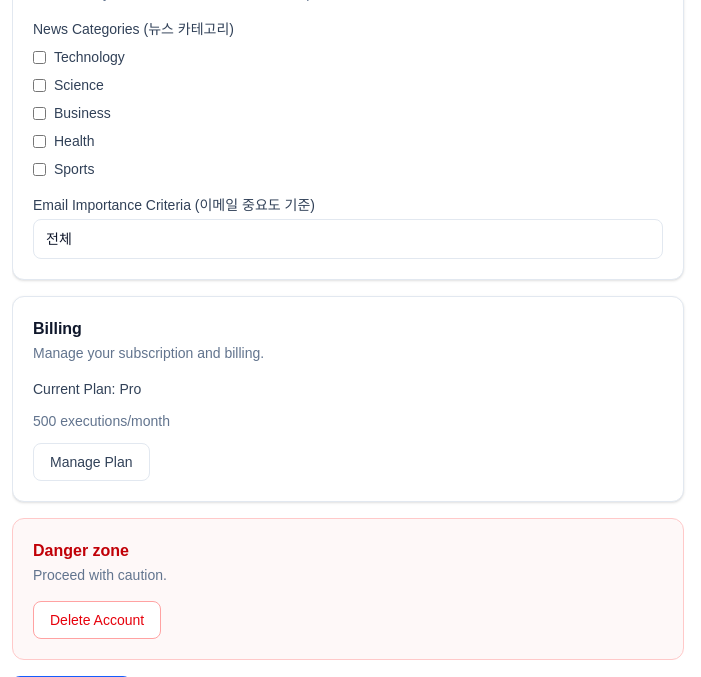
Test case: PM-19: Pro 사용자 Manage Plan → Stripe Customer Portal › Portal API 실패 시 에러 메시지 표시 — RED: 에러 처리 미구현
(page scrolled)
Click the button "Manage Plan" at [91, 462], box [33, 443, 150, 481]
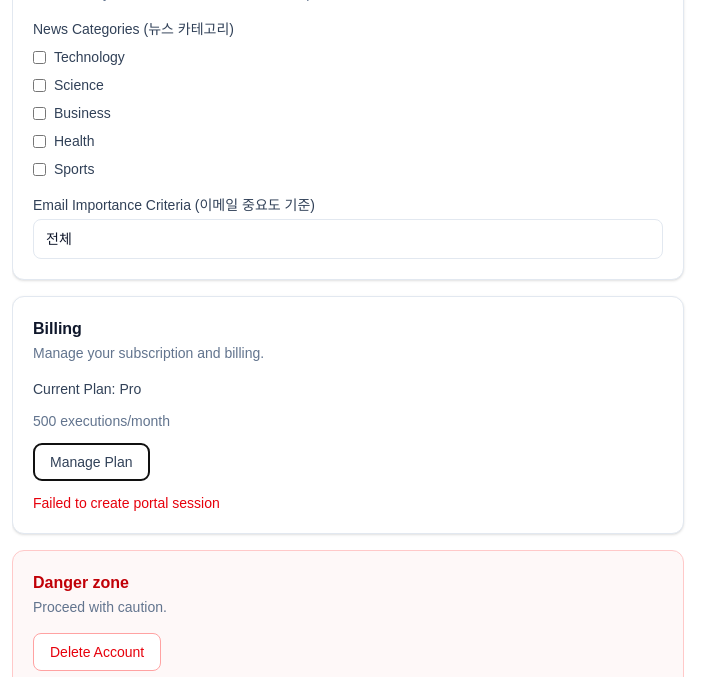
Check: the text "Failed to create portal session" is shown, box [33, 495, 220, 511]
